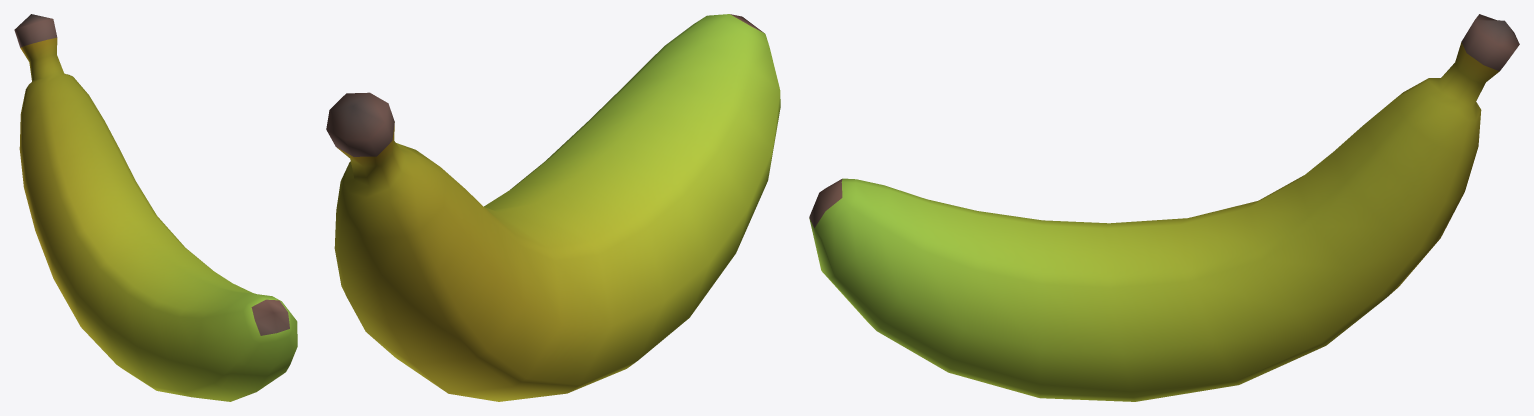
File: banana_002.fbx
3 renders of one model, left to right at view 1: azimuth 30°, elevation 25°; view 2: azimuth 150°, elevation 25°; view 3: azimuth 270°, elevation 25°, orthographic. The views are drawn at different scales.
Visible parts, largest first — view 1: banana_002; view 2: banana_002; view 3: banana_002.
Boxes of the visible parts, bbox=[...] form: banana_002: bbox=[14, 14, 297, 401]; banana_002: bbox=[326, 14, 780, 401]; banana_002: bbox=[809, 14, 1519, 401].
Size of the model in its own units: 5.47 by 19.94 by 11.56.
